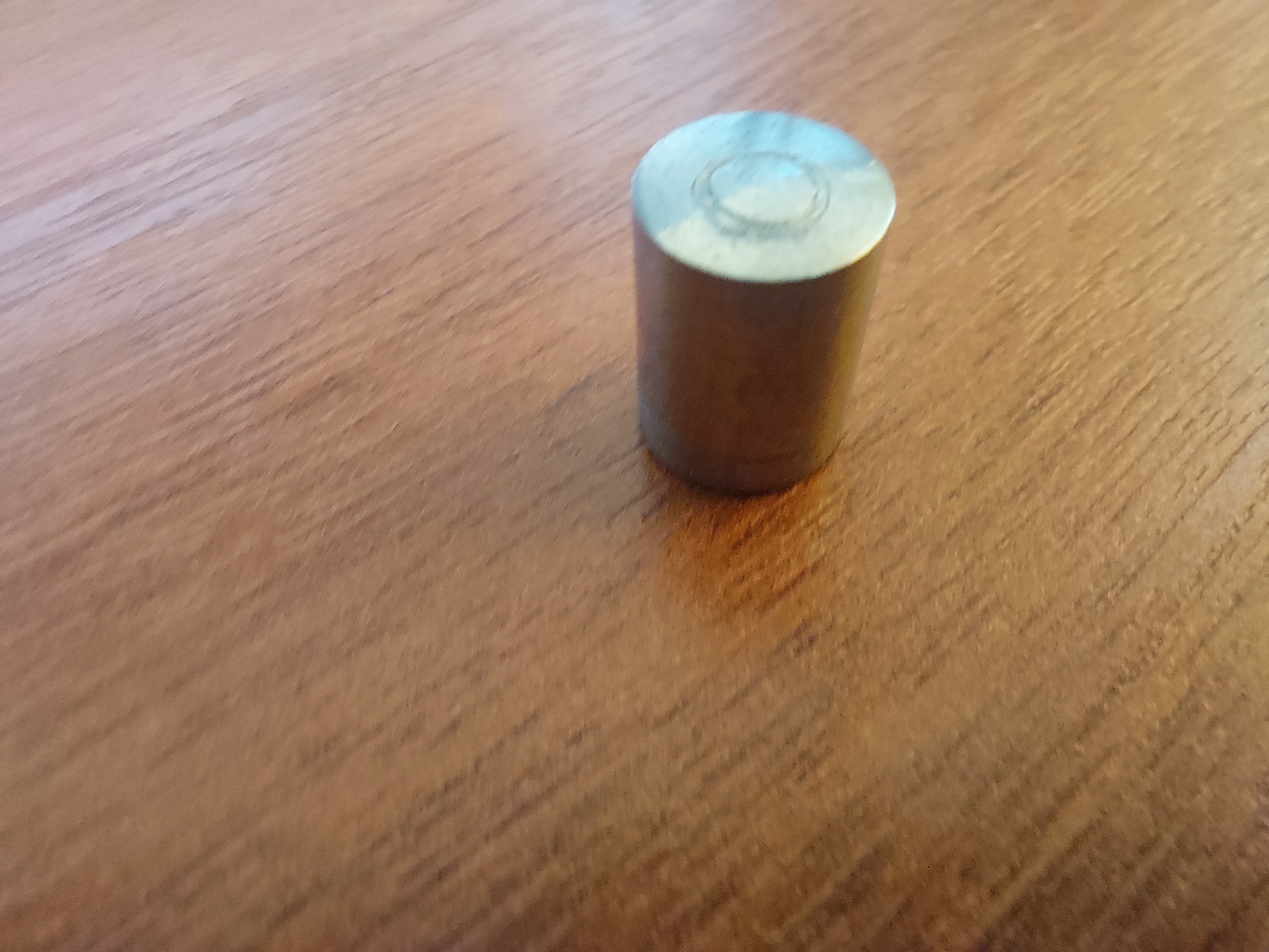tablet: (618, 95, 904, 538)
